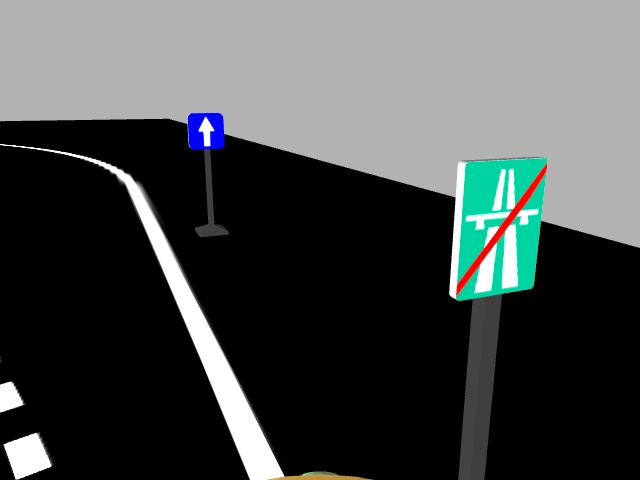HighwayExit: (446, 157, 543, 297)
OneWay: (186, 111, 226, 150)
